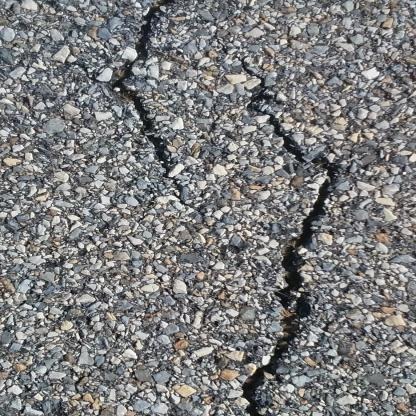Cracks: (213, 56, 341, 416), (114, 0, 234, 200)
